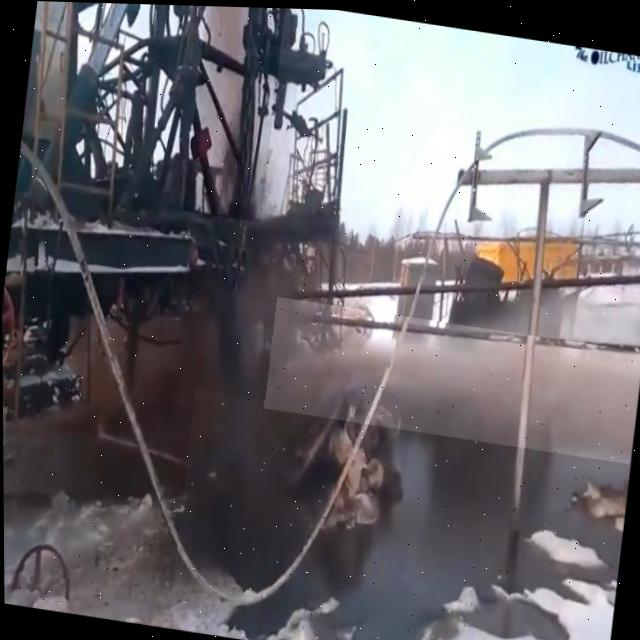spillage: (167, 389, 628, 640), (263, 295, 640, 460), (183, 5, 285, 221)
